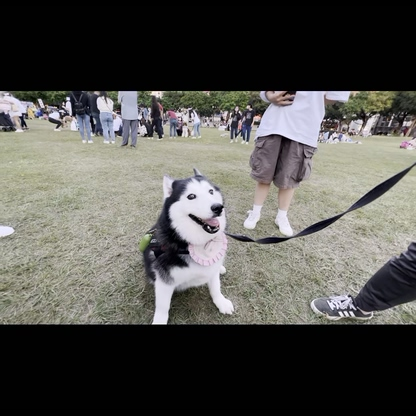husky: (138, 163, 238, 322)
